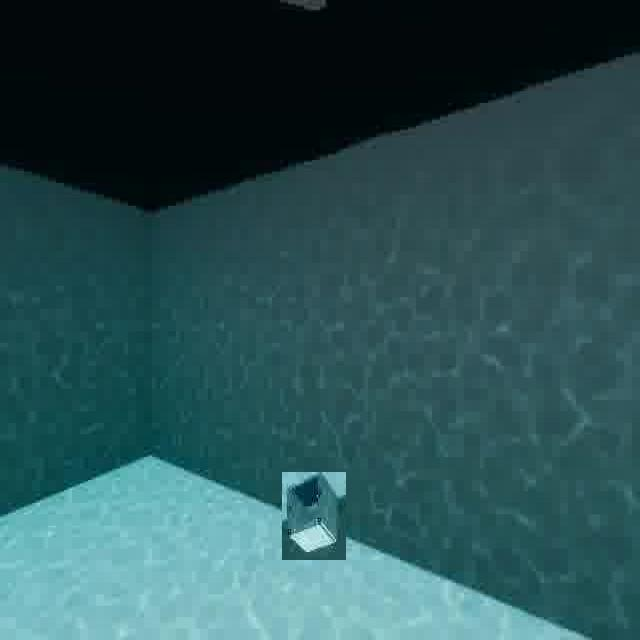Docking Station: (282, 472, 346, 560)
